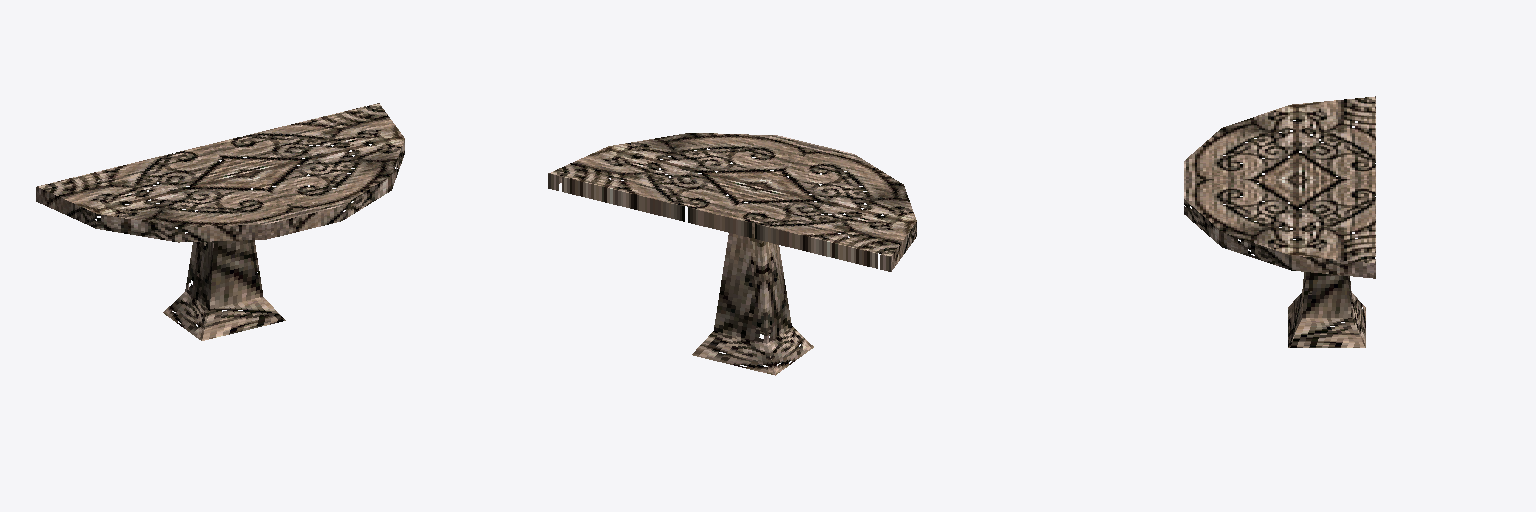
3 views of the same model, side by side, from view 1: azimuth 30°, elevation 25°; view 2: azimuth 150°, elevation 25°; view 3: azimuth 270°, elevation 25° (orthographic).
Parts seen in each view (by area): view 1: Mesh_0; view 2: Mesh_0; view 3: Mesh_0.
Part boxes in pixels (x1,y1,x2,y2): Mesh_0: (36,103,404,340); Mesh_0: (548,133,916,375); Mesh_0: (1184,96,1375,347).
Bounding box in the file's own units: 2.04 × 0.8633 × 0.9929.
Materials: 1 (1 with a texture image).